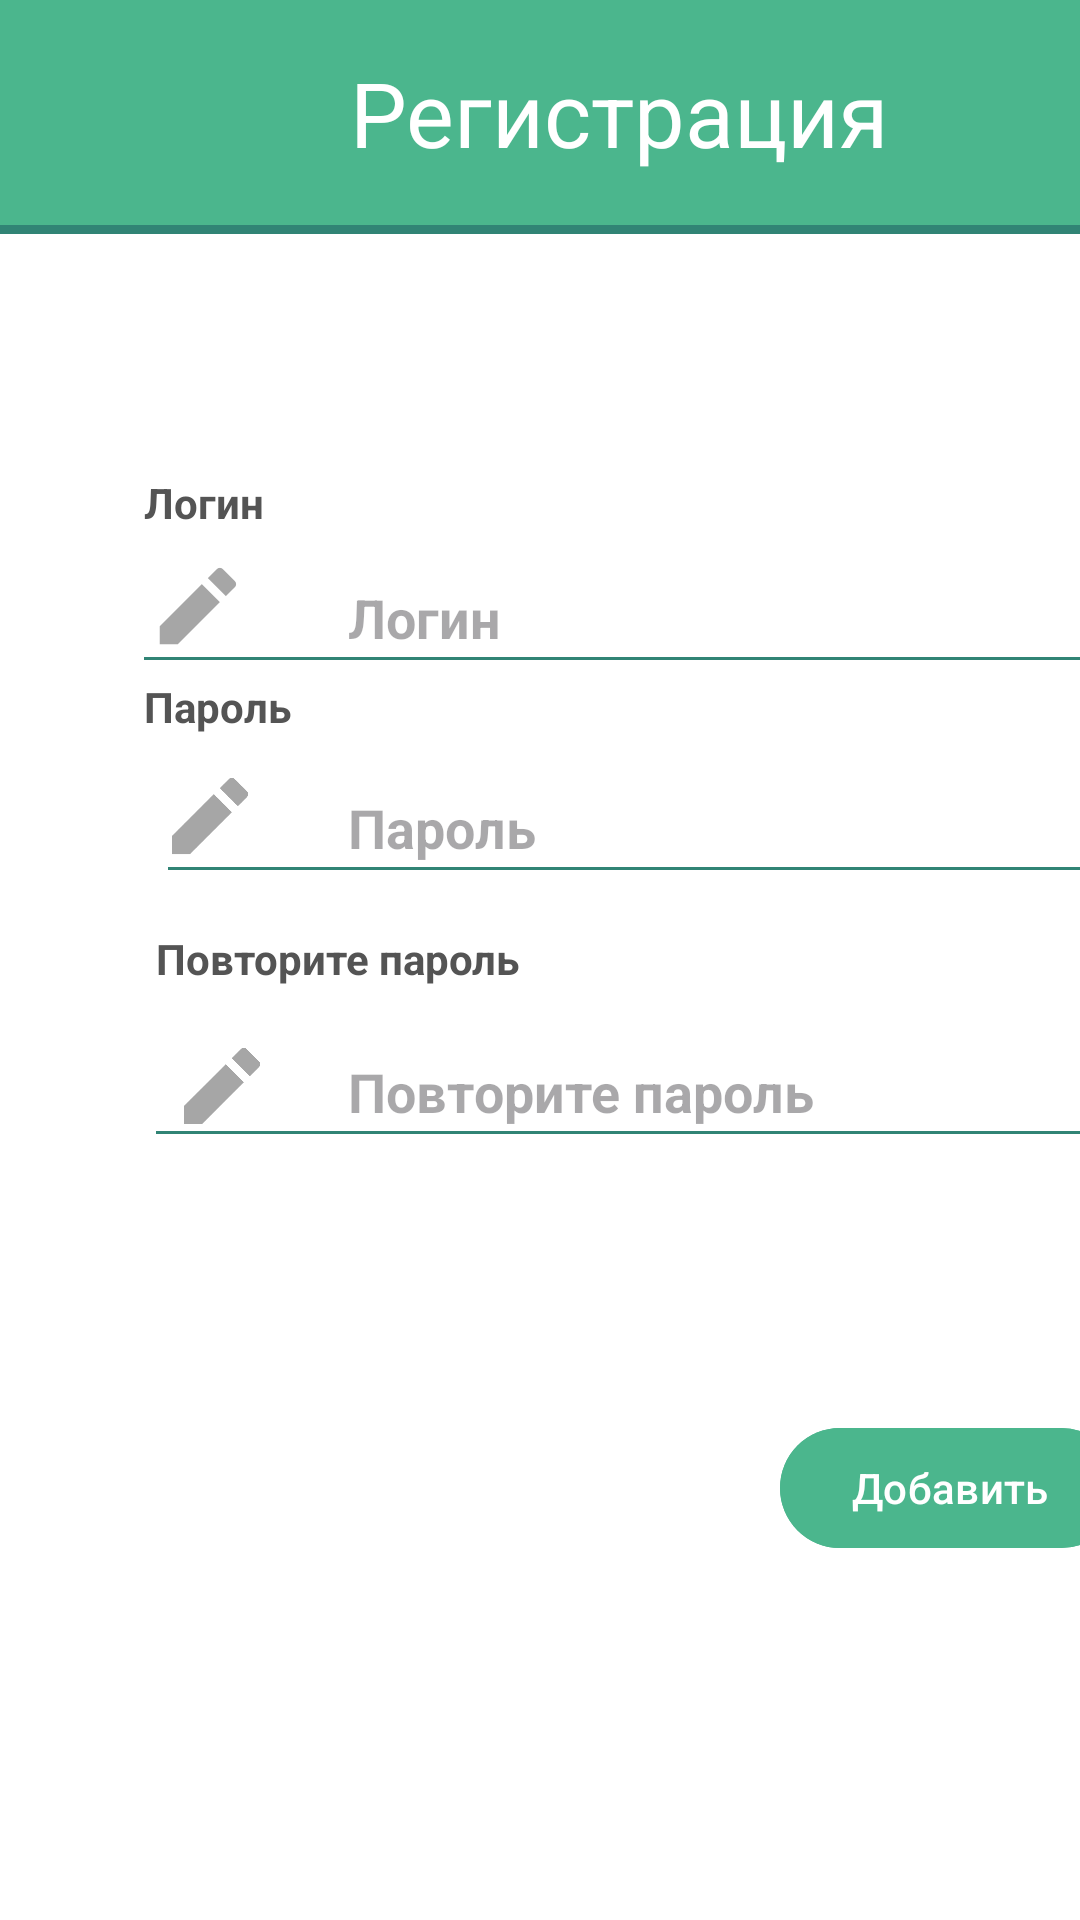

Screen size 1080*1920. Icon name, then its box in pixels as detection(x1, y1, x2, y2):
pen: detection(160, 568, 236, 644), detection(172, 778, 248, 854), detection(184, 1048, 260, 1124)
